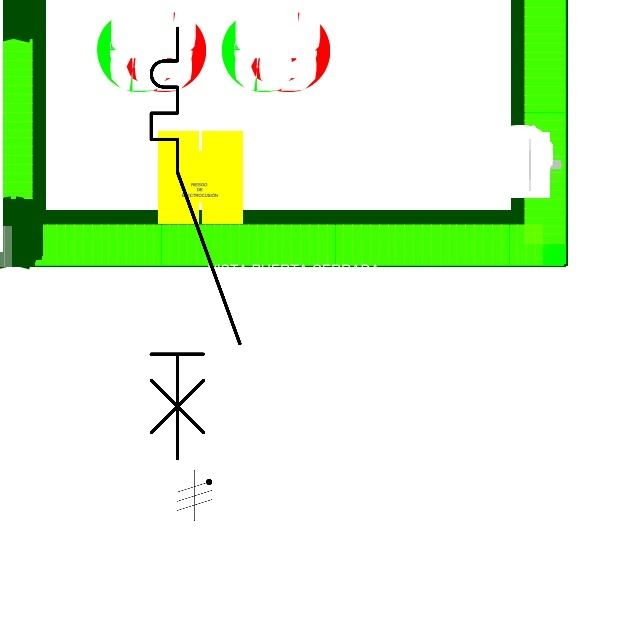interruptor_termomagnetico: (140, 17, 251, 470)
